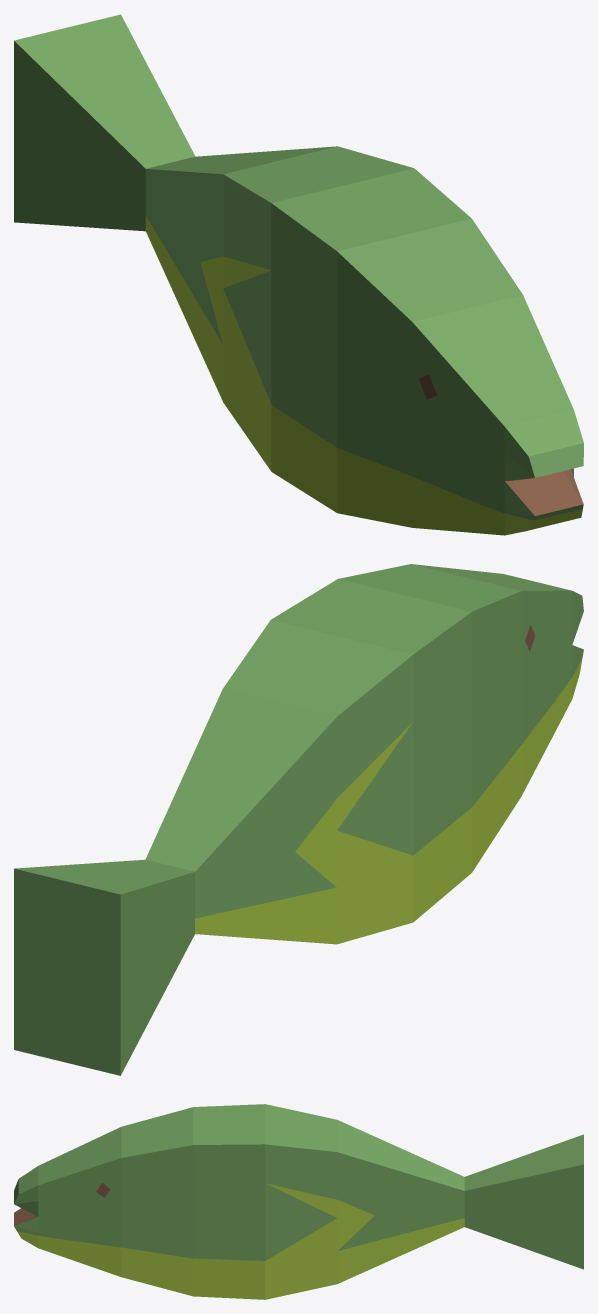
File: fish.fbx
The picture shows the model from 3 angles, top to bottom: view 1: azimuth 30°, elevation 25°; view 2: azimuth 150°, elevation 25°; view 3: azimuth 270°, elevation 25°; orthographic projection. The views are drawn at different scales.
Parts seen in each view (by area): view 1: fish; view 2: fish; view 3: fish.
Boxes of the visible parts, x1,y1,x2,y2 form: fish: (14, 14, 583, 535); fish: (14, 564, 583, 1075); fish: (14, 1104, 583, 1299).
Size of the model in its own units: 90.74 by 163 by 542.
